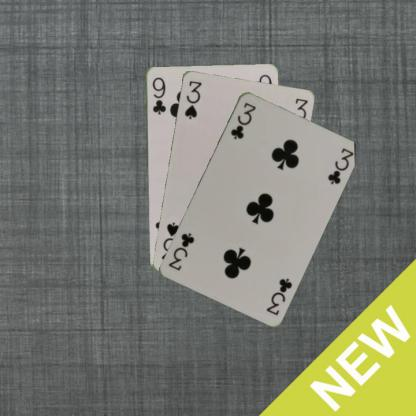3c: (264, 275, 294, 317), (228, 100, 257, 140)
3s: (181, 78, 203, 120)
9c: (150, 74, 167, 116)
